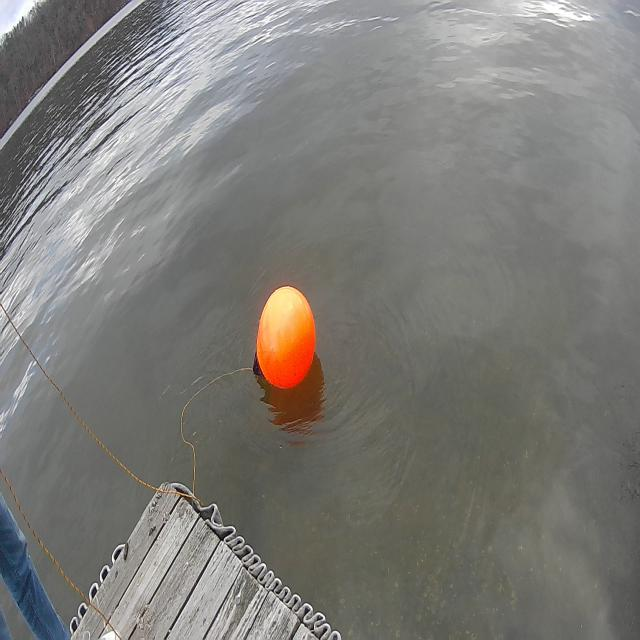Buoy: (253, 280, 318, 404)
